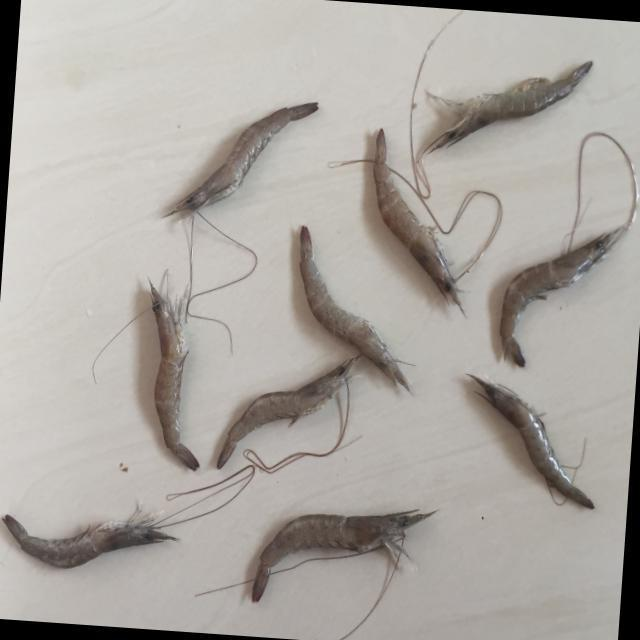shrimp: (300, 226, 411, 391), (501, 224, 628, 365), (165, 101, 319, 215), (467, 374, 595, 509), (252, 510, 436, 602), (422, 59, 594, 157), (374, 128, 464, 312), (217, 355, 362, 469), (1, 515, 178, 568), (150, 281, 199, 471)
